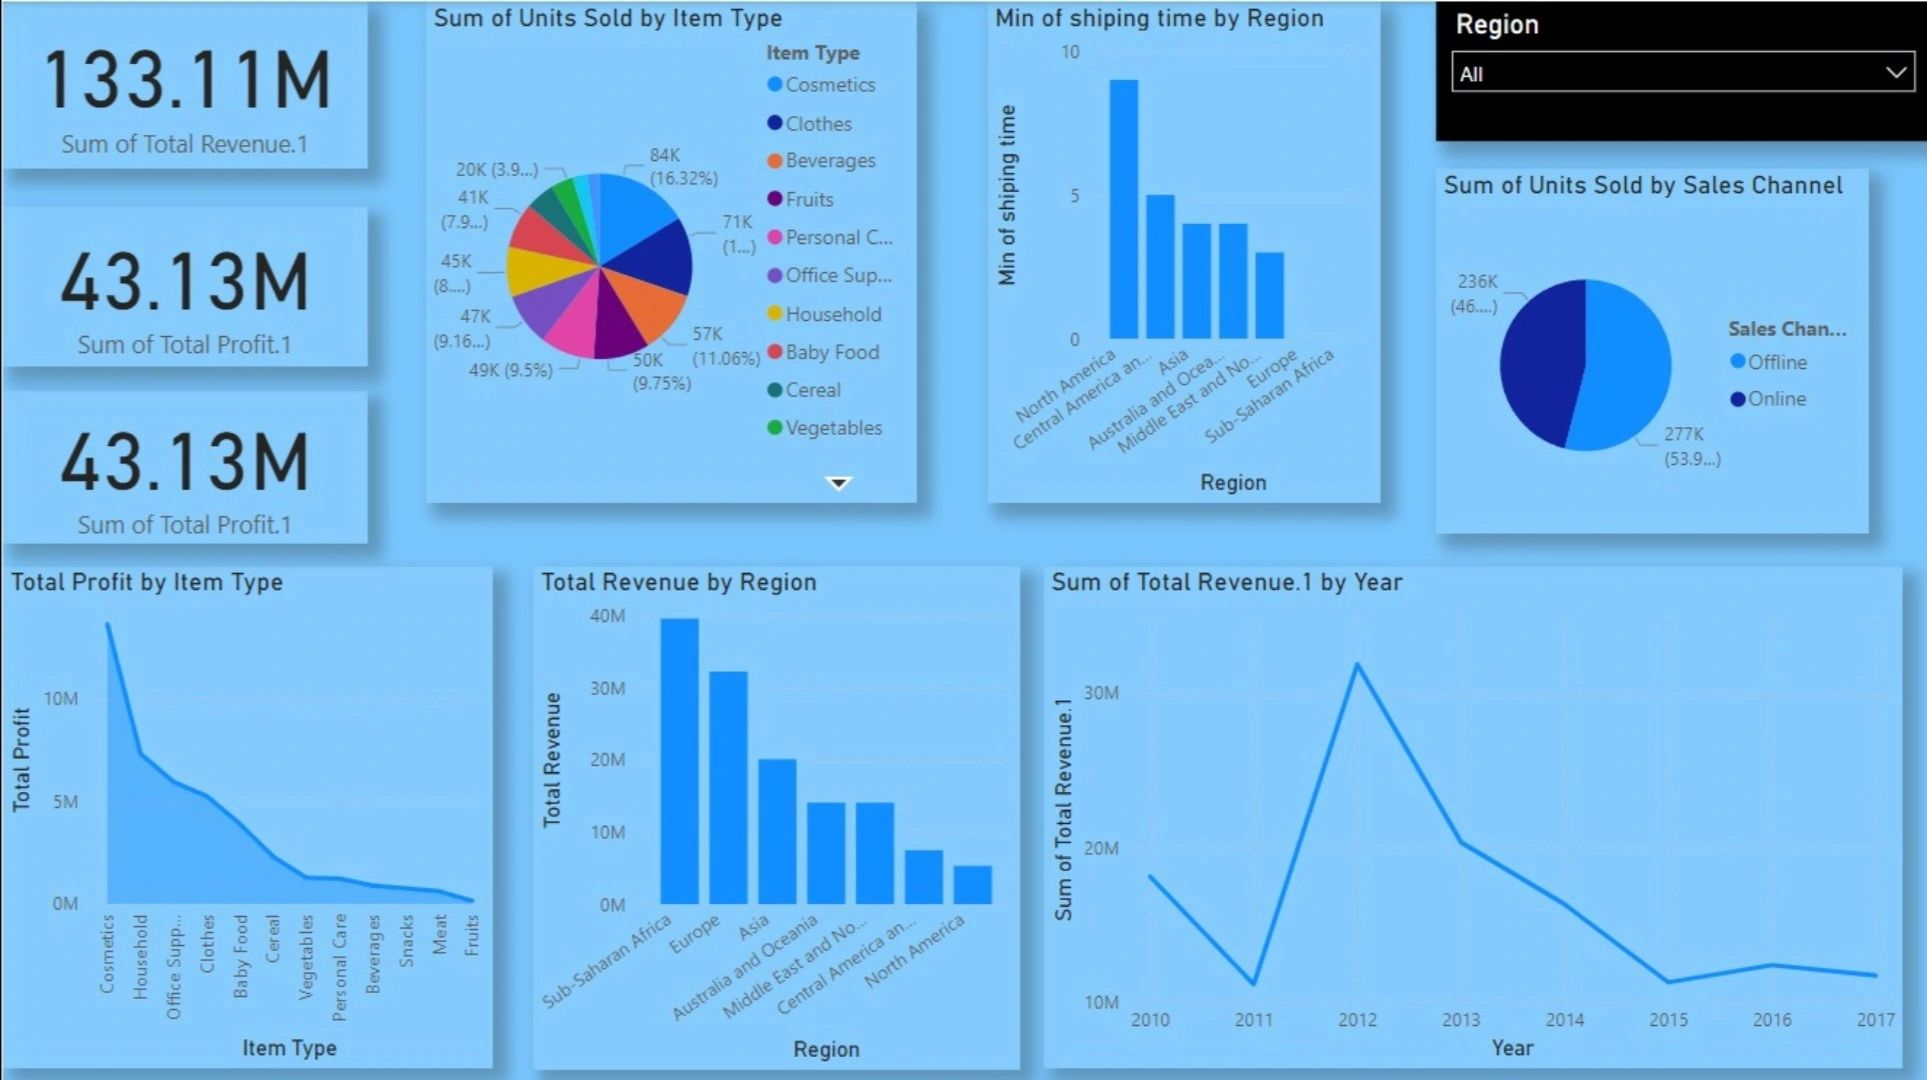

What the dashboard file says about the page in this screenshot:
{"tool":"powerbi","page":{"name":"Page 1","canvas":[1280,720],"ordinal":0},"visuals":[{"type":"clusteredColumnChart","fields":{"Category":["Amazon_Sales_Data.Region"],"Y":["Sum(Amazon_Sales_Data.Total Revenue.1)"]},"box":[352.3,375.2,323.3,334.2],"z":0},{"type":"areaChart","fields":{"Category":["Amazon_Sales_Data.Item Type"],"Y":["Sum(Amazon_Sales_Data.Total Profit.1)"]},"box":[0,375.2,325.7,333],"z":1000},{"type":"pieChart","fields":{"Category":["Amazon_Sales_Data.Item Type"],"Y":["Sum(Amazon_Sales_Data.Units Sold)"]},"box":[281.1,0,325.7,333],"z":2000},{"type":"card","fields":{"Values":["Sum(Amazon_Sales_Data.Total Revenue.1)"]},"box":[0,0,242.5,111],"z":3000},{"type":"slicer","fields":{"Values":["Amazon_Sales_Data.Region"]},"box":[951.9,0,328.2,92.9],"z":4000},{"type":"pieChart","fields":{"Category":["Amazon_Sales_Data.Sales Channel"],"Y":["Sum(Amazon_Sales_Data.Units Sold)"]},"box":[951.9,111,287.1,242.5],"z":5000},{"type":"card","fields":{"Values":["Sum(Amazon_Sales_Data.Total Profit.1)"]},"box":[0,136.3,242.5,106.2],"z":6000},{"type":"card","fields":{"Values":["Sum(Amazon_Sales_Data.Total Profit.1)"]},"box":[0,258.2,242.5,101.3],"z":7000},{"type":"lineChart","fields":{"Y":["Sum(Amazon_Sales_Data.Total Revenue.1)"],"Category":["Amazon_Sales_Data.Order Date.Variation.Date Hierarchy.Year"]},"box":[691.3,375.2,570.6,333],"z":8000},{"type":"clusteredColumnChart","fields":{"Y":["Min(Amazon_Sales_Data.shiping time)"],"Category":["Amazon_Sales_Data.Region"]},"box":[653.9,0,260.6,333],"z":9000}]}

Visuals, with their boxes in screenshot pixels (x1, y1, x2, y2), scaled from the page's 1280x720 canvas onto the 1927x1080 screenshot:
clusteredColumnChart - Amazon_Sales_Data.Region x Sum(Amazon_Sales_Data.Total Revenue.1): {"left": 530, "top": 563, "right": 1017, "bottom": 1064}
areaChart - Amazon_Sales_Data.Item Type x Sum(Amazon_Sales_Data.Total Profit.1): {"left": 0, "top": 563, "right": 490, "bottom": 1062}
pieChart - Amazon_Sales_Data.Item Type x Sum(Amazon_Sales_Data.Units Sold): {"left": 423, "top": 0, "right": 914, "bottom": 500}
card - Sum(Amazon_Sales_Data.Total Revenue.1): {"left": 0, "top": 0, "right": 365, "bottom": 166}
slicer - Amazon_Sales_Data.Region: {"left": 1433, "top": 0, "right": 1926, "bottom": 139}
pieChart - Amazon_Sales_Data.Sales Channel x Sum(Amazon_Sales_Data.Units Sold): {"left": 1433, "top": 166, "right": 1865, "bottom": 530}
card - Sum(Amazon_Sales_Data.Total Profit.1): {"left": 0, "top": 204, "right": 365, "bottom": 364}
card - Sum(Amazon_Sales_Data.Total Profit.1): {"left": 0, "top": 387, "right": 365, "bottom": 539}
lineChart - Sum(Amazon_Sales_Data.Total Revenue.1) x Amazon_Sales_Data.Order Date.Variation.Date Hierarchy.Year: {"left": 1041, "top": 563, "right": 1900, "bottom": 1062}
clusteredColumnChart - Min(Amazon_Sales_Data.shiping time) x Amazon_Sales_Data.Region: {"left": 984, "top": 0, "right": 1377, "bottom": 500}
